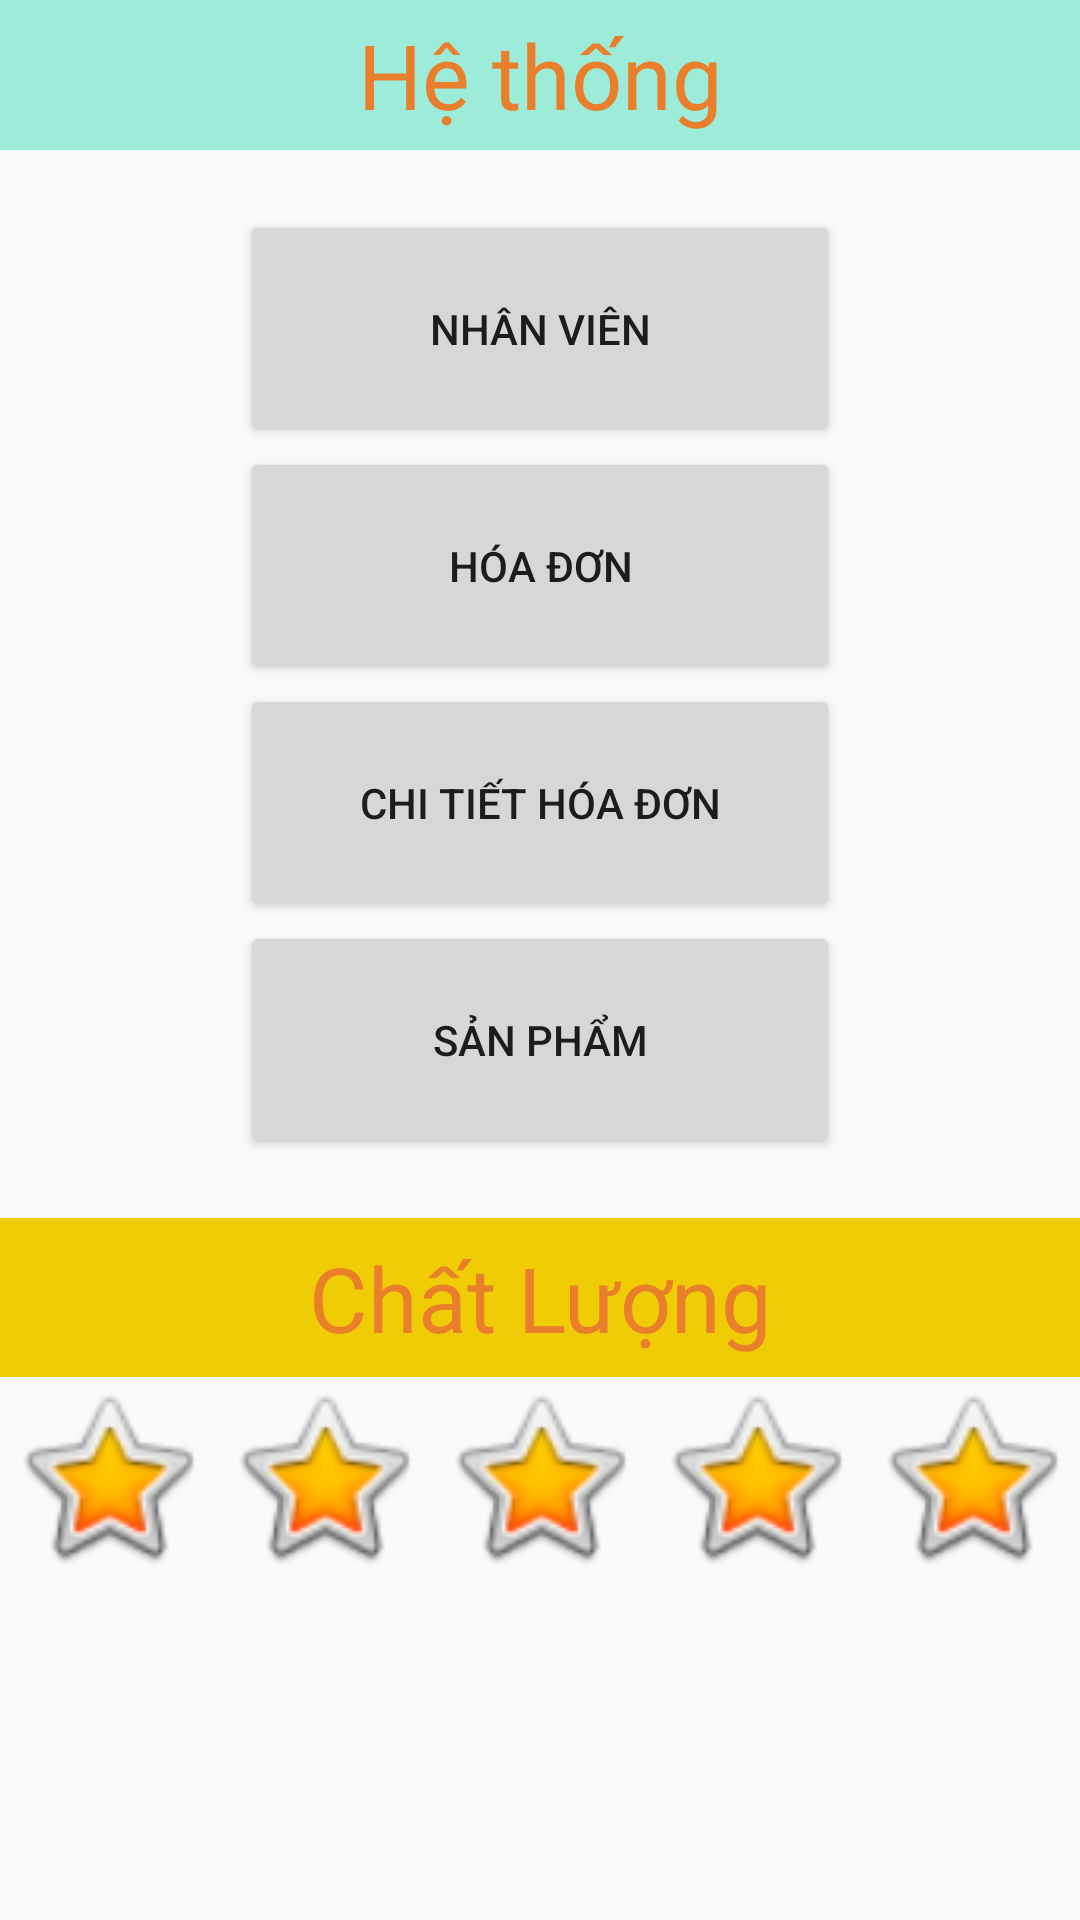

Icons on this 1080×1920 Android screen, each with its box as (x1=x1, y1=y1, x2=x2, y2=y2):
star on: (x1=26, y1=1397, x2=194, y2=1561), (x1=242, y1=1397, x2=410, y2=1561), (x1=458, y1=1397, x2=626, y2=1561), (x1=674, y1=1397, x2=842, y2=1561), (x1=890, y1=1397, x2=1058, y2=1561)
